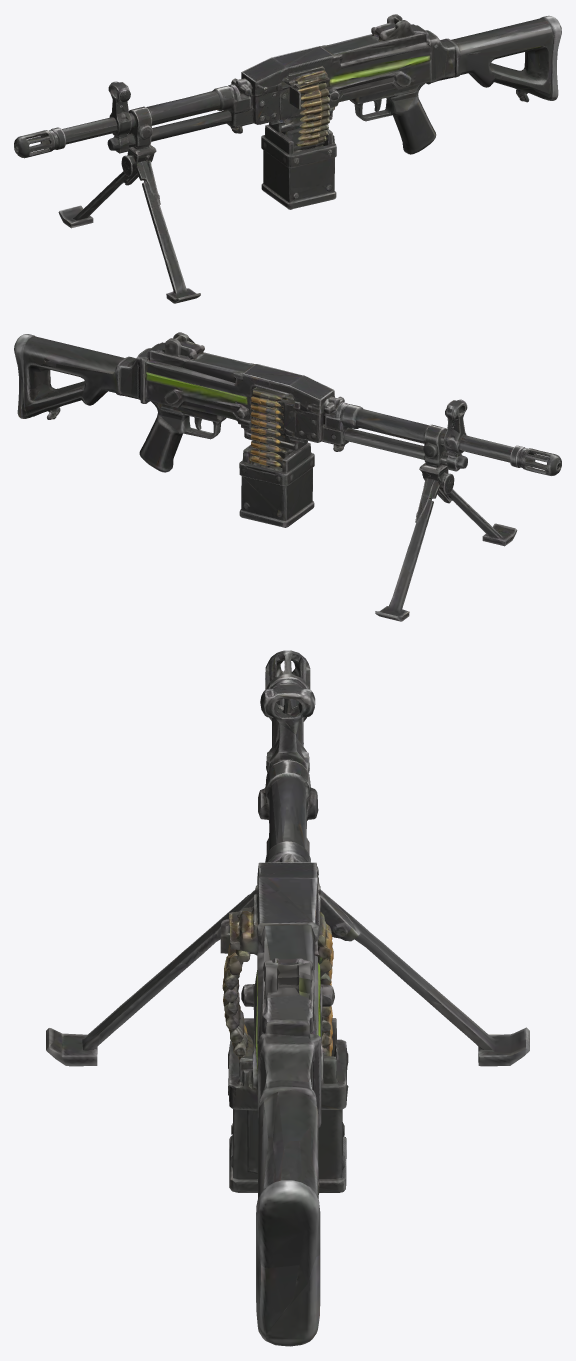
Rendered from gun_lmg.glb.
The picture shows the model from 3 angles, top to bottom: view 1: azimuth 30°, elevation 25°; view 2: azimuth 150°, elevation 25°; view 3: azimuth 270°, elevation 25°; orthographic projection. The views are drawn at different scales.
Visible parts, largest first — view 1: Mesh_0; view 2: Mesh_0; view 3: Mesh_0.
Part boxes in pixels (box(x1,y1,x2,y2)): Mesh_0: box(14, 14, 561, 303); Mesh_0: box(14, 332, 561, 621); Mesh_0: box(46, 650, 529, 1346).
Size of the model in its own units: 1.9 by 0.5998 by 0.7369.
1 material, 1 textured.
